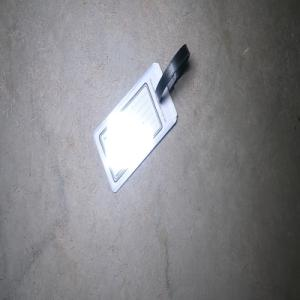LuggageTag: (92, 41, 191, 194)
